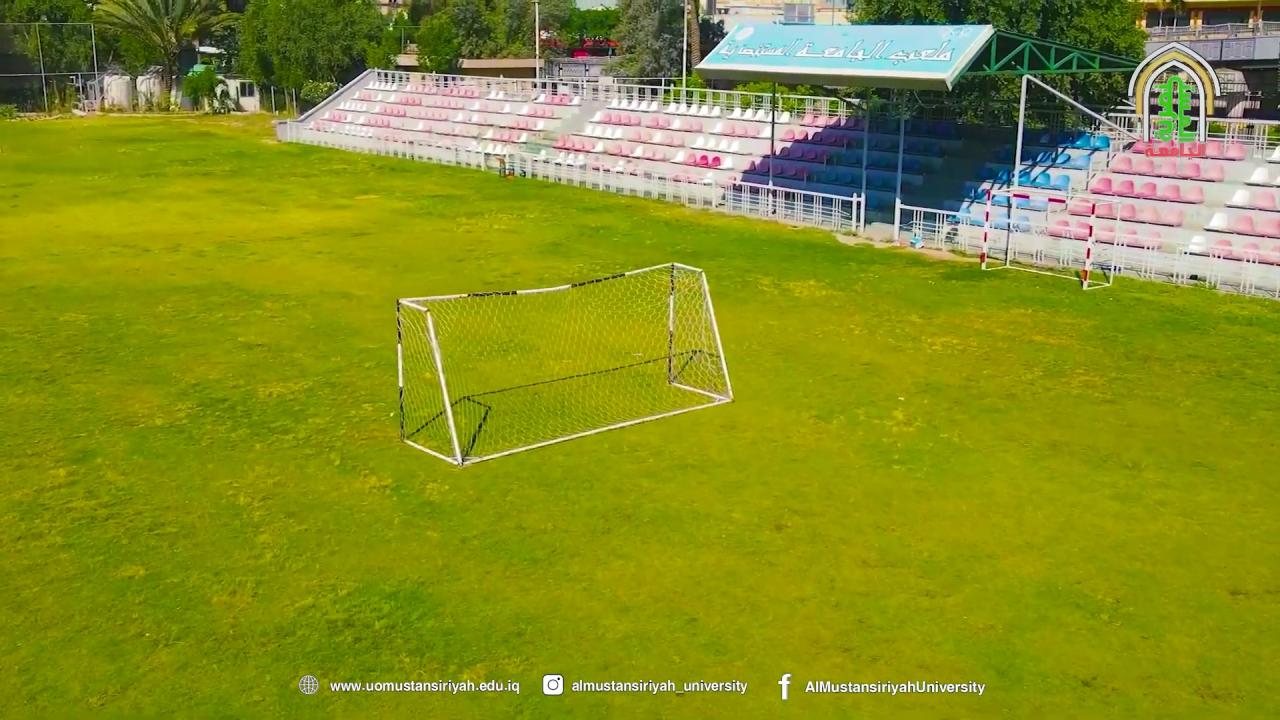tree: (843, 0, 1150, 131), (233, 0, 398, 118), (89, 0, 242, 111), (3, 0, 94, 111), (413, 0, 531, 75), (601, 0, 689, 96), (412, 9, 460, 74), (180, 65, 224, 112)
